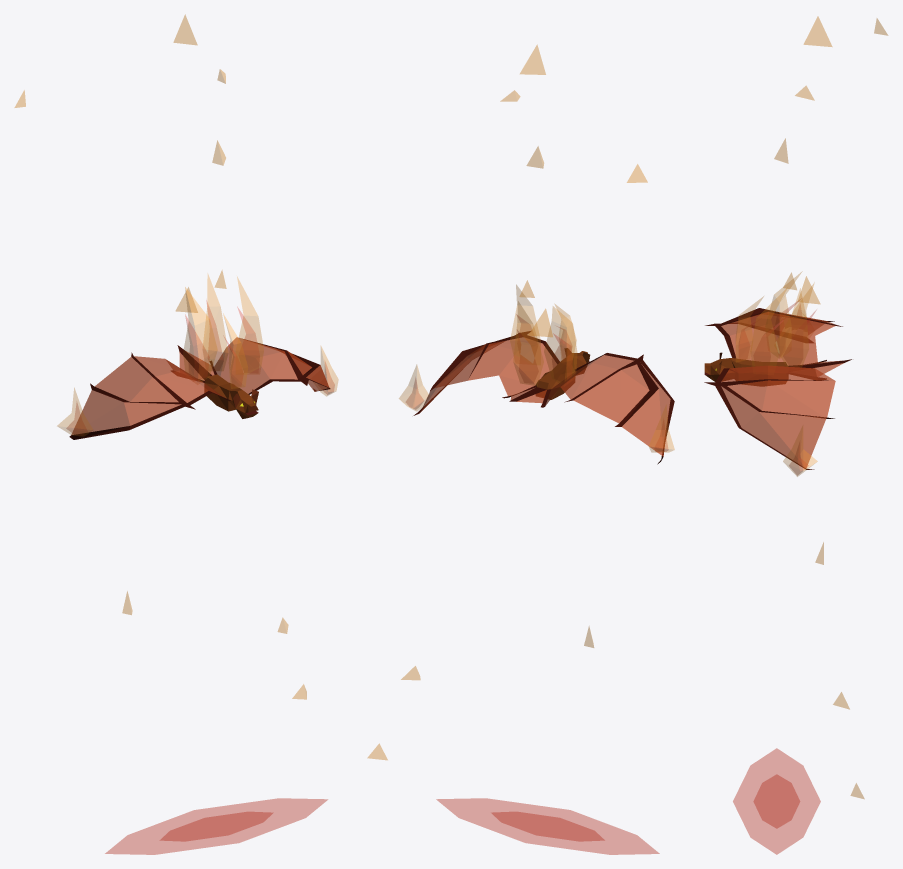
File: tz_kih.glb
3 renders of one model, left to right at view 1: azimuth 30°, elevation 25°; view 2: azimuth 150°, elevation 25°; view 3: azimuth 270°, elevation 25°, orthographic. The views are drawn at different scales.
Size of the model in its own units: 110 by 295 by 63.
Materials: 2 (2 with a texture image).
